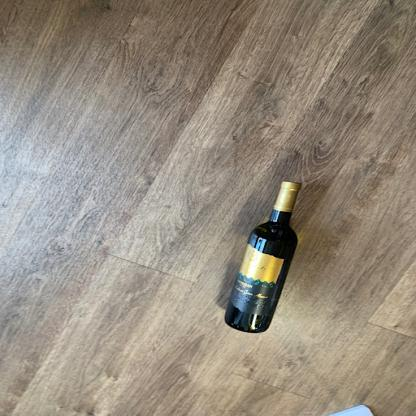trash: (224, 180, 303, 336)
